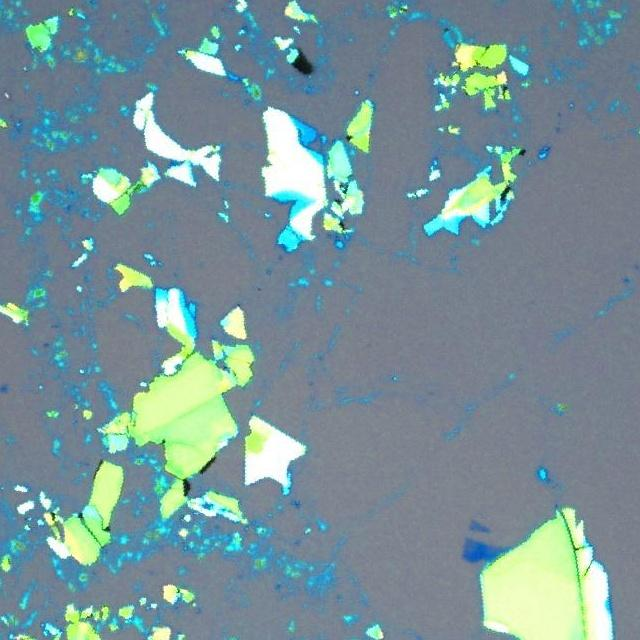monolayer-eWW4: (464, 540, 479, 554)
